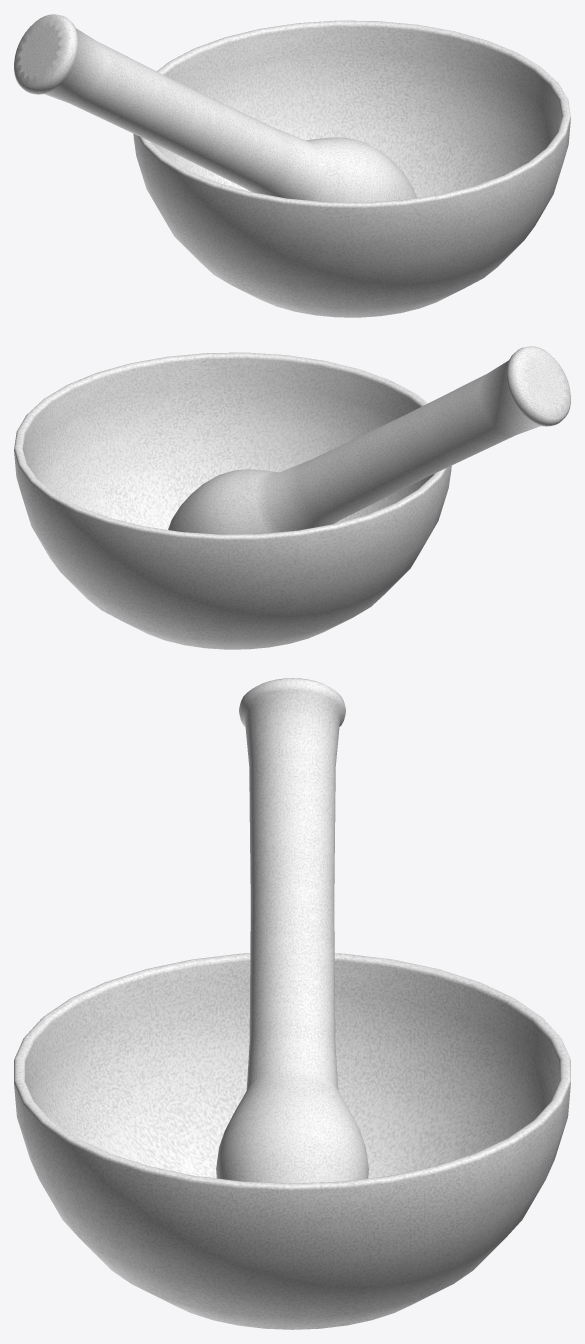
File: chemical_mortar_porcelain.FBX
3 renders of one model, top to bottom at view 1: azimuth 30°, elevation 25°; view 2: azimuth 150°, elevation 25°; view 3: azimuth 270°, elevation 25°, orthographic. The views are drawn at different scales.
Visible parts, largest first — view 1: chemical_mortar_porcelain, chemical_Grinding rod_porcelain; view 2: chemical_mortar_porcelain, chemical_Grinding rod_porcelain; view 3: chemical_mortar_porcelain, chemical_Grinding rod_porcelain.
Boxes of the visible parts, x1=… form: chemical_mortar_porcelain: x1=133, y1=20, x2=570, y2=317; chemical_Grinding rod_porcelain: x1=14, y1=14, x2=416, y2=202; chemical_mortar_porcelain: x1=14, y1=352, x2=451, y2=649; chemical_Grinding rod_porcelain: x1=168, y1=346, x2=570, y2=534; chemical_mortar_porcelain: x1=14, y1=953, x2=570, y2=1329; chemical_Grinding rod_porcelain: x1=216, y1=678, x2=368, y2=1183.
Bounding box in the file's own units: 11.92 × 7.43 × 8.7.
Materials: 1 (1 with a texture image).
